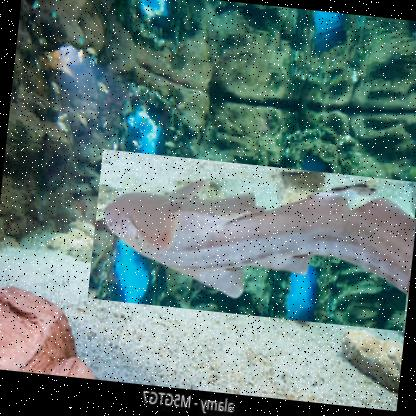zebra_shark: (86, 149, 415, 333)
